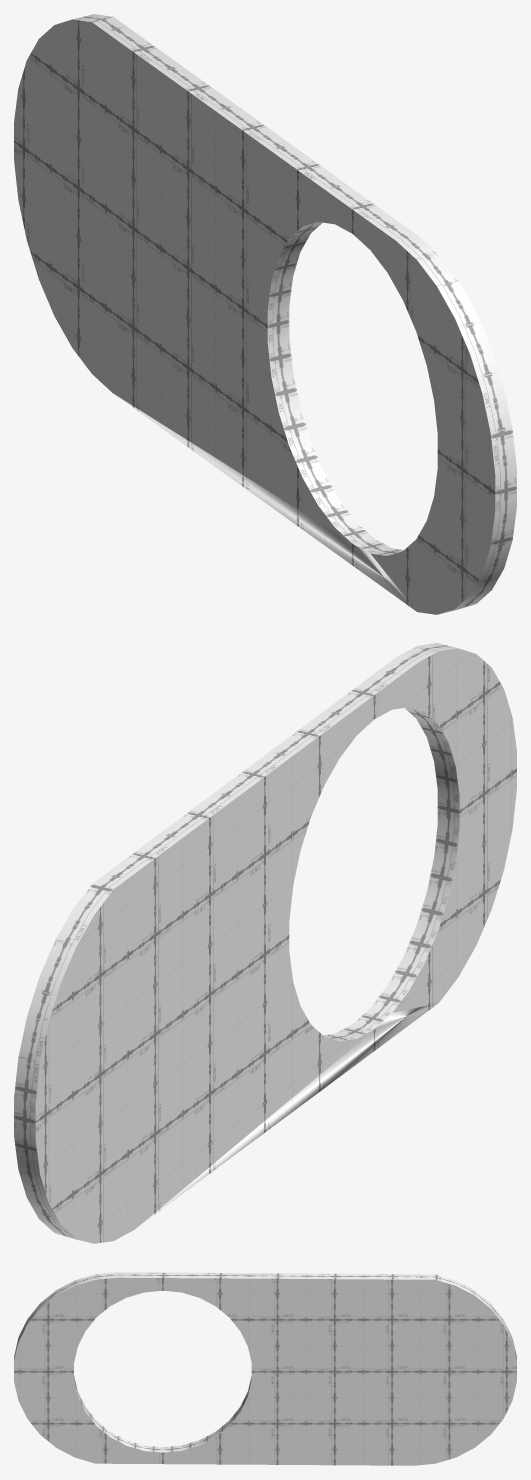
Rendered from slideRotatingDoorFrame.obj.
3 views of the same model, one above another, from view 1: azimuth 30°, elevation 25°; view 2: azimuth 150°, elevation 25°; view 3: azimuth 270°, elevation 25° (orthographic). The views are drawn at different scales.
Visible parts, largest first — view 1: slideRotatingDoorFrame; view 2: slideRotatingDoorFrame; view 3: slideRotatingDoorFrame.
Part boxes in pixels (box(x1,y1,x2,y2)): slideRotatingDoorFrame: box(14, 14, 516, 614); slideRotatingDoorFrame: box(14, 643, 516, 1243); slideRotatingDoorFrame: box(14, 1272, 516, 1465).
Bounding box in the file's own units: 0.2295 × 3.62 × 8.78.
1 material, 1 textured.
